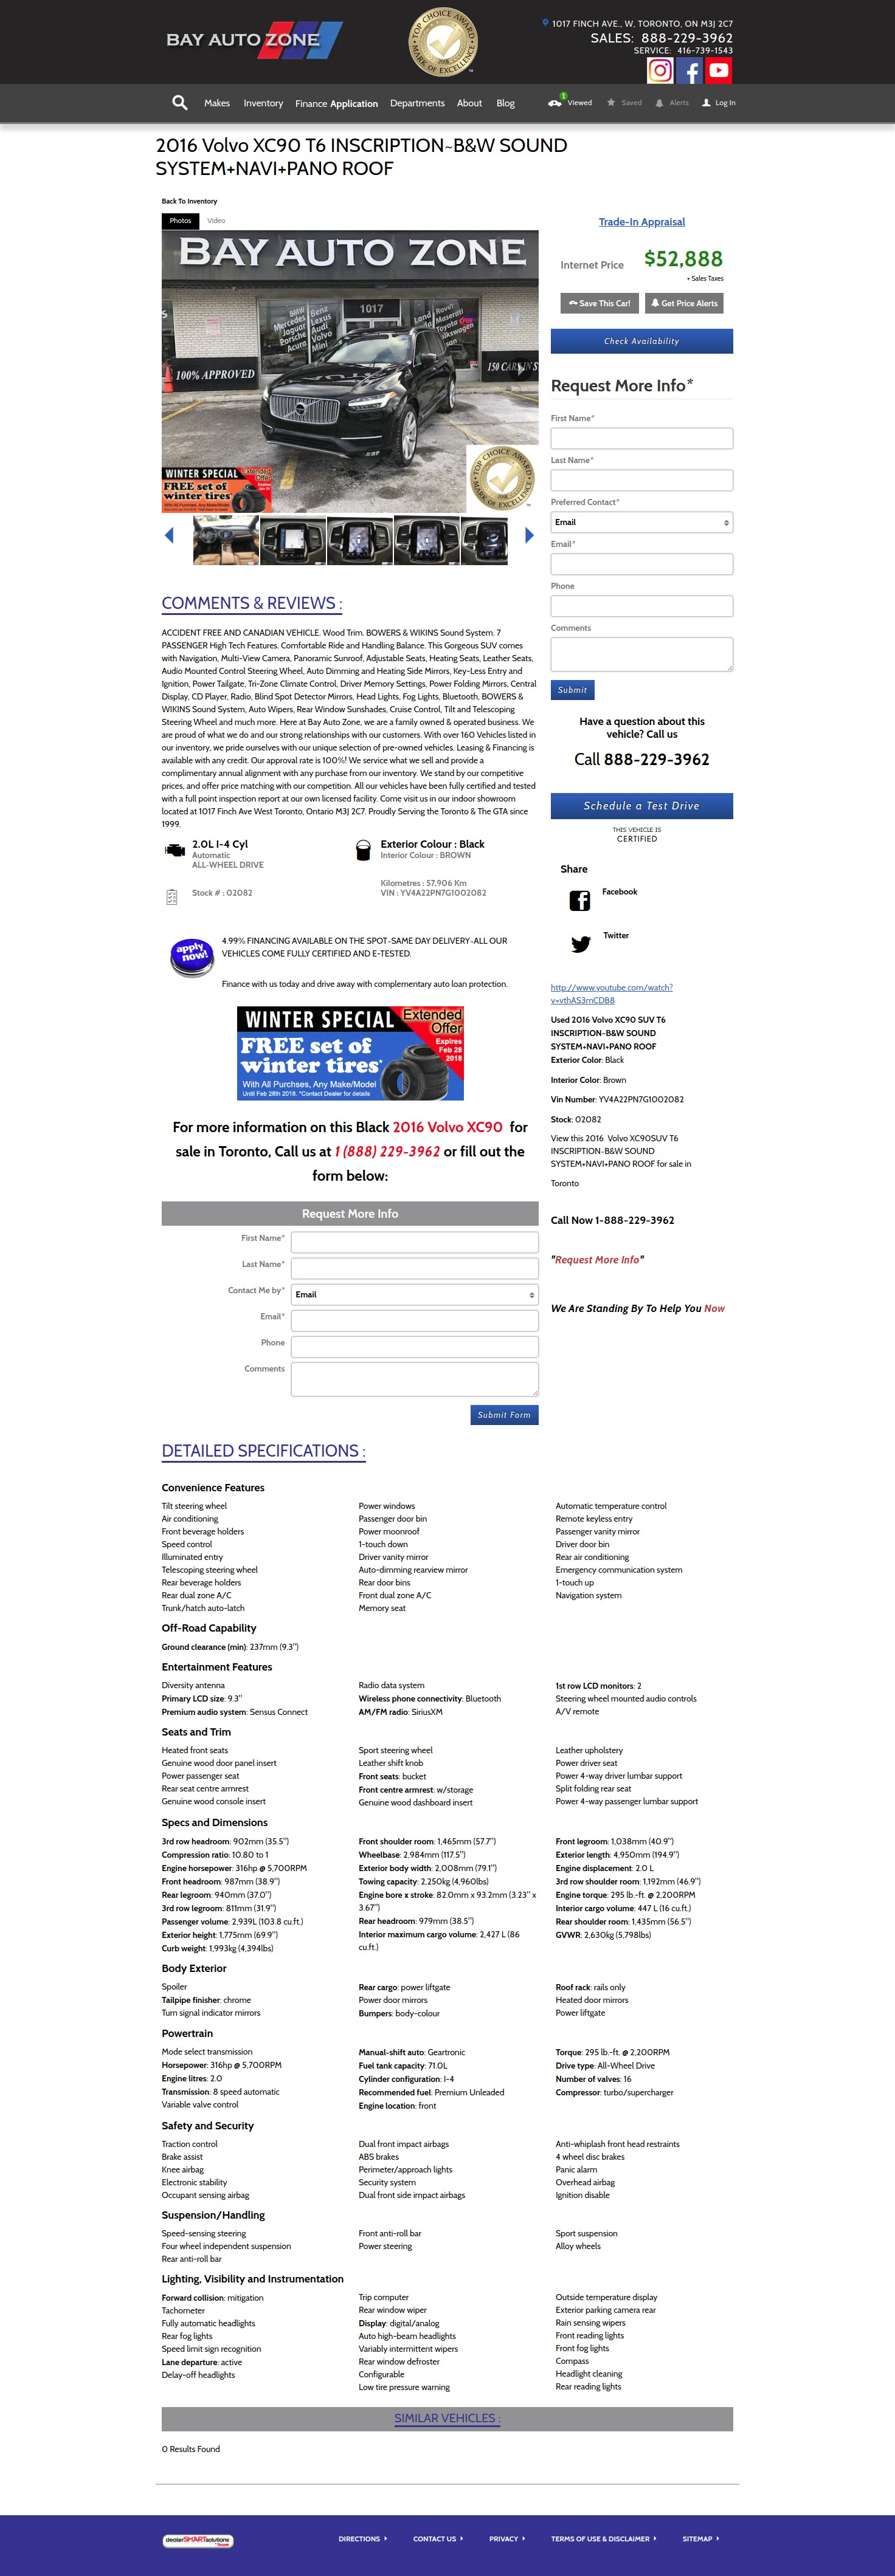car: (525, 527, 535, 545)
